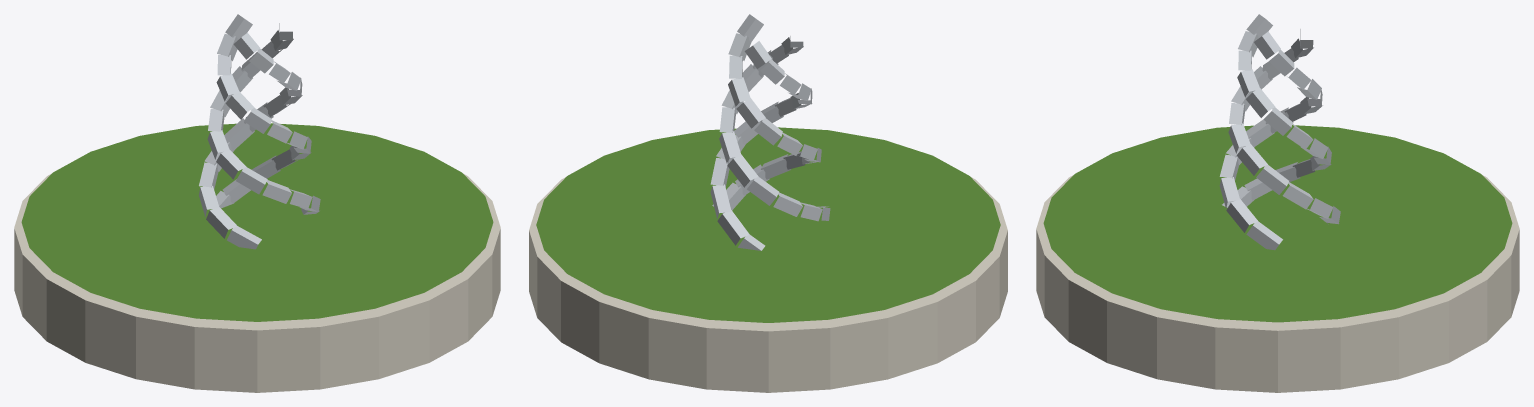
Rendered from rb_tubes.glb.
3 views of the same model, side by side, from view 1: azimuth 30°, elevation 25°; view 2: azimuth 150°, elevation 25°; view 3: azimuth 270°, elevation 25° (orthographic).
Visible parts, largest first — view 1: rb_tubes_lod0; view 2: rb_tubes_lod0; view 3: rb_tubes_lod0.
Boxes of the visible parts, x1=… form: rb_tubes_lod0: x1=14, y1=14, x2=500, y2=392; rb_tubes_lod0: x1=529, y1=14, x2=1007, y2=392; rb_tubes_lod0: x1=1036, y1=14, x2=1519, y2=392.
Size of what is drawn, in the model's own units: 13.4 by 8.2 by 13.4.
